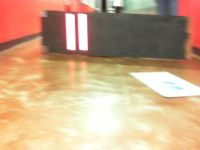switch: (77, 13, 88, 51), (65, 13, 76, 50)
